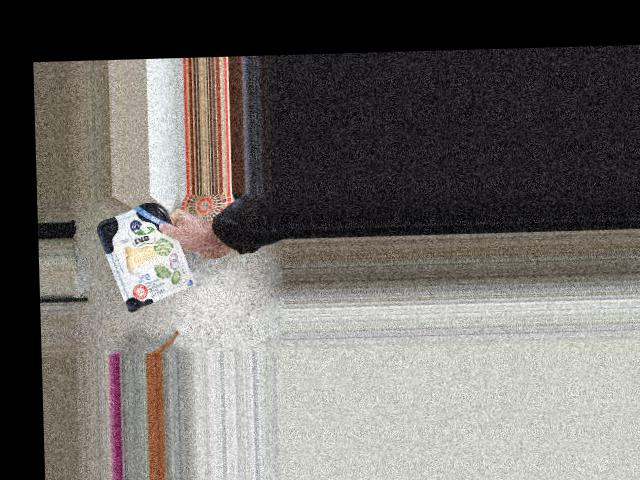cheese: (114, 213, 185, 301)
